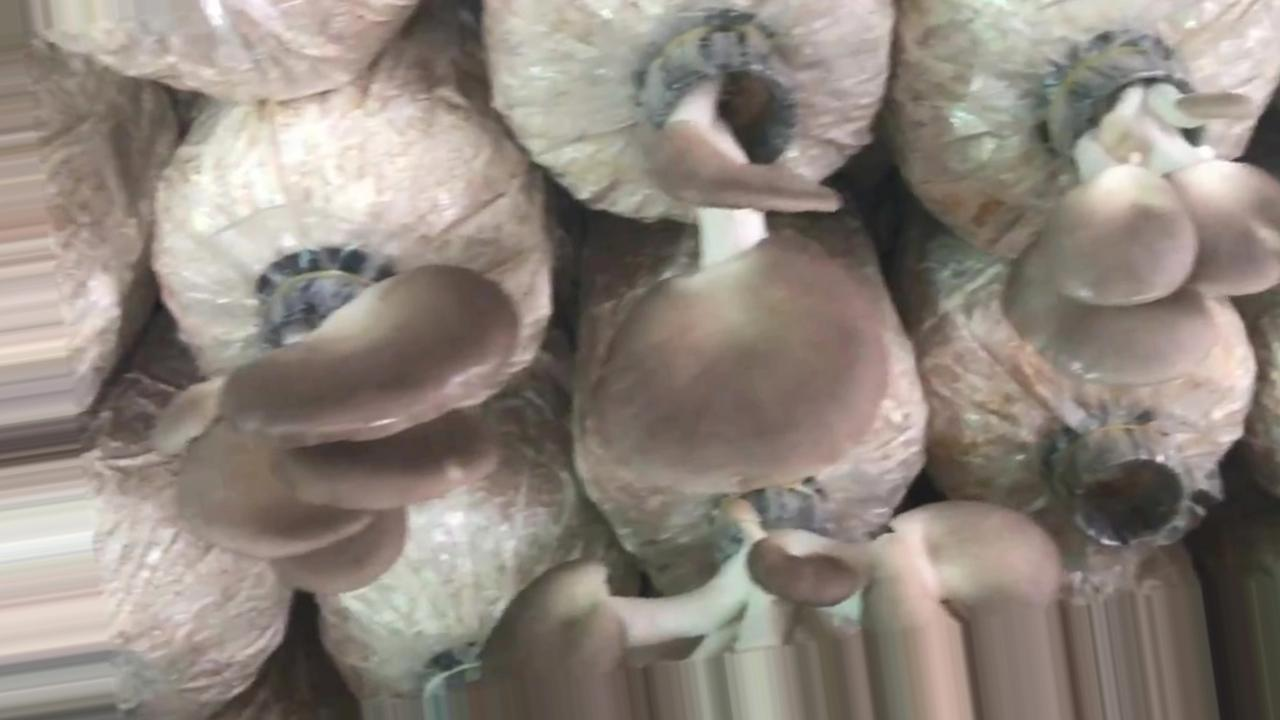nam: (588, 38, 895, 502), (481, 477, 1060, 699), (152, 256, 520, 605), (999, 32, 1280, 380)
